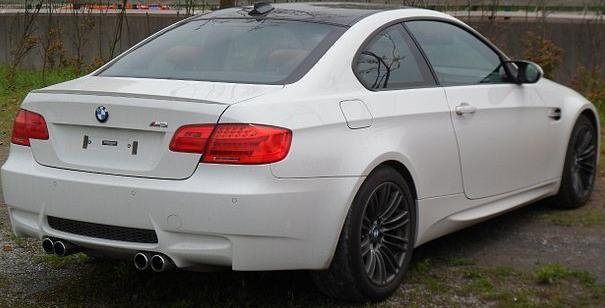back_view: (0, 101, 314, 276)
backlight: (162, 115, 296, 169)
side_glass: (352, 12, 520, 95)
